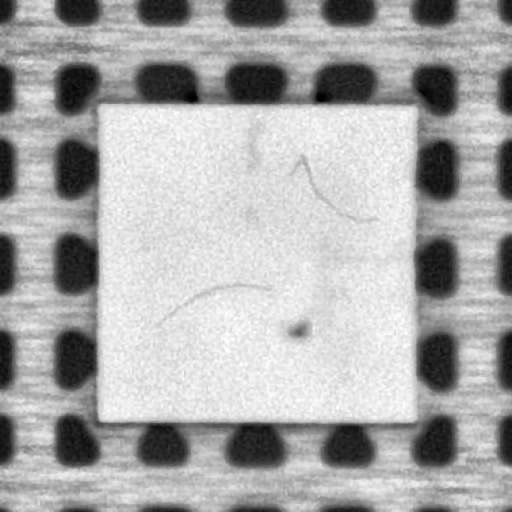DIE_CRACK: (152, 277, 272, 332), (292, 153, 378, 220)
